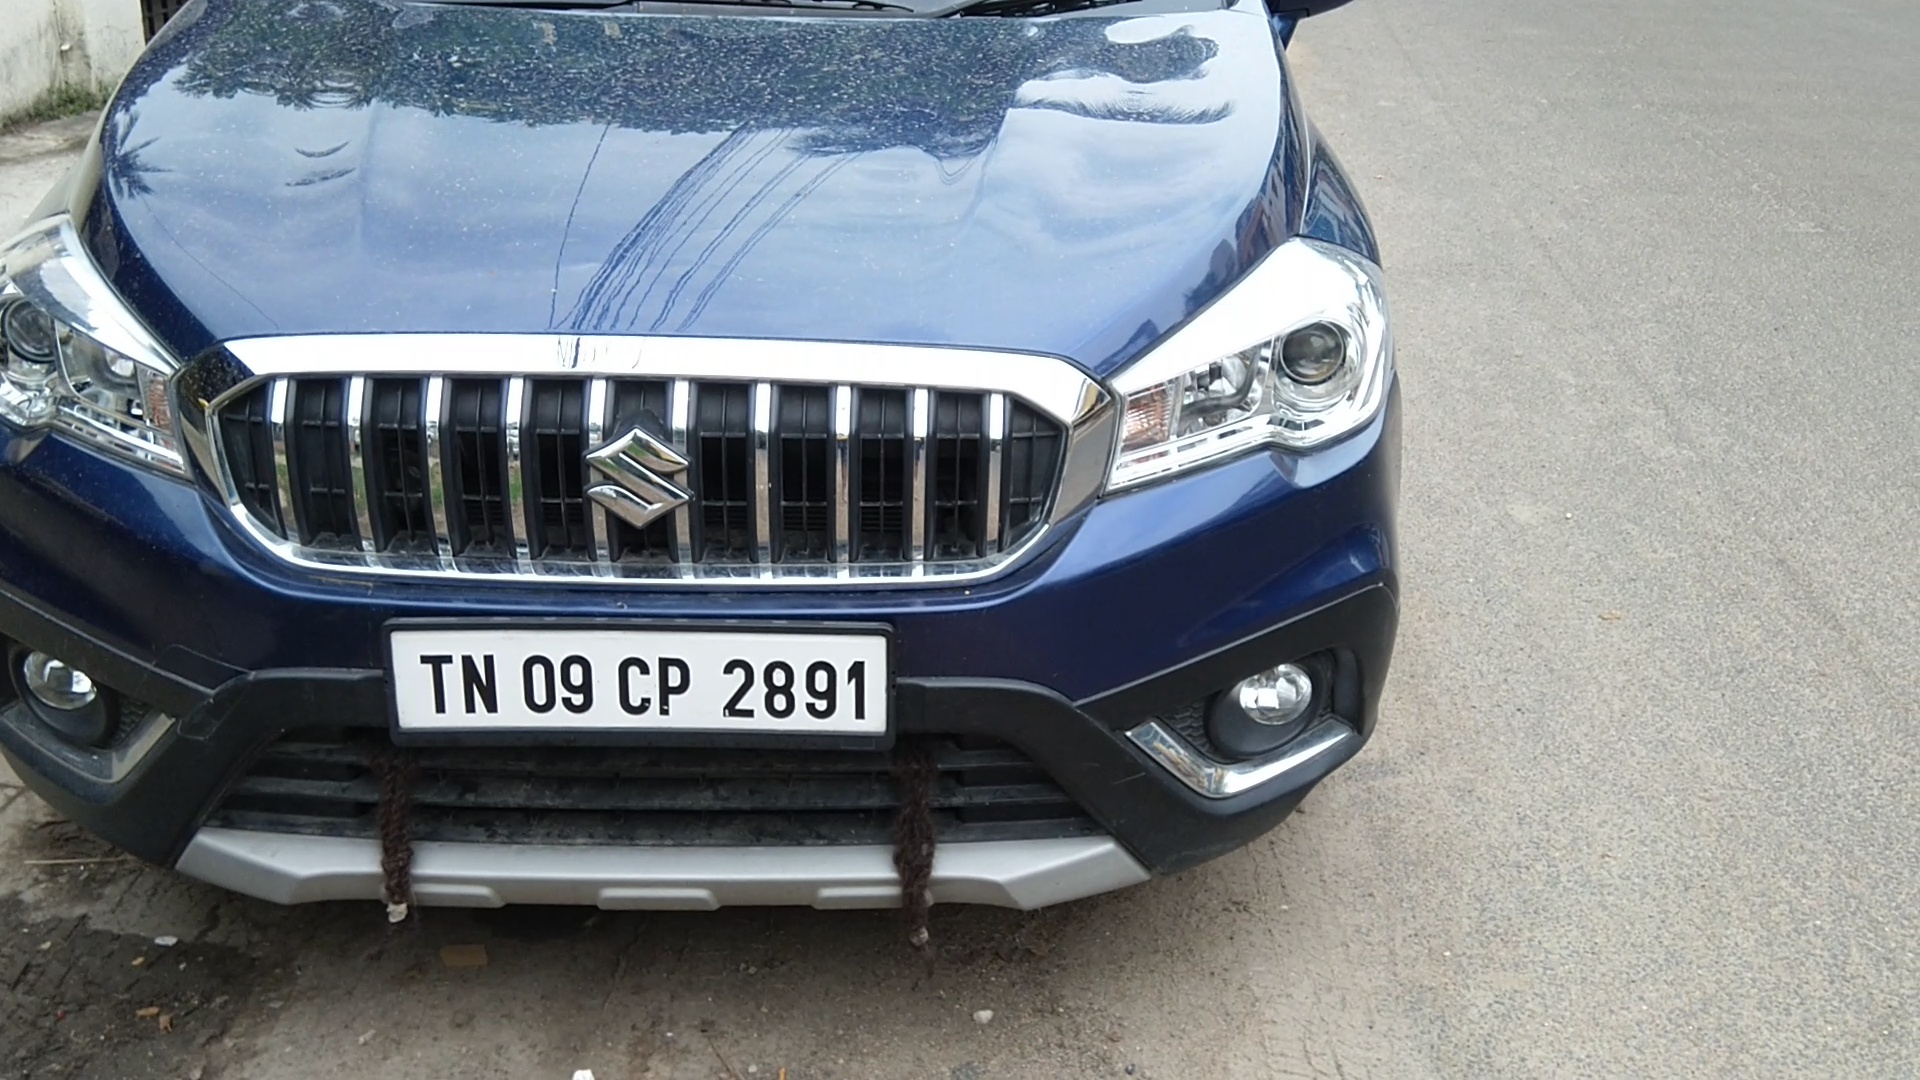front_grill: (191, 324, 1097, 611)
headlamp: (1105, 228, 1394, 527), (1, 214, 189, 475)
